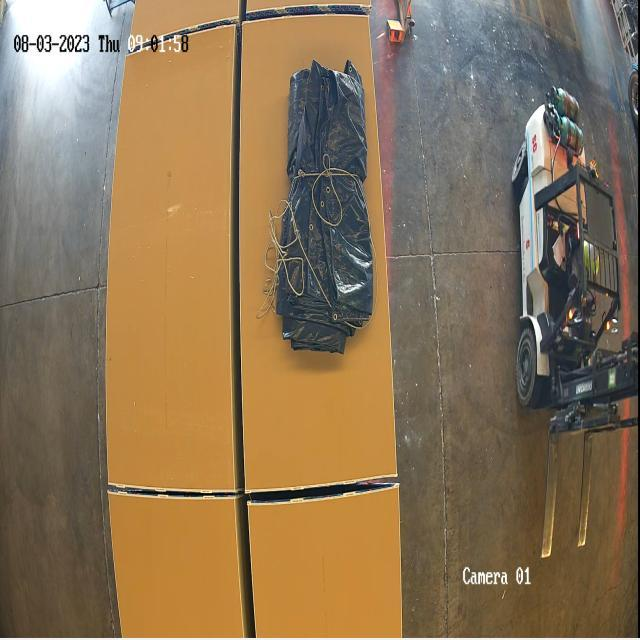driver: (579, 242, 600, 297)
forklift: (511, 79, 640, 441)
